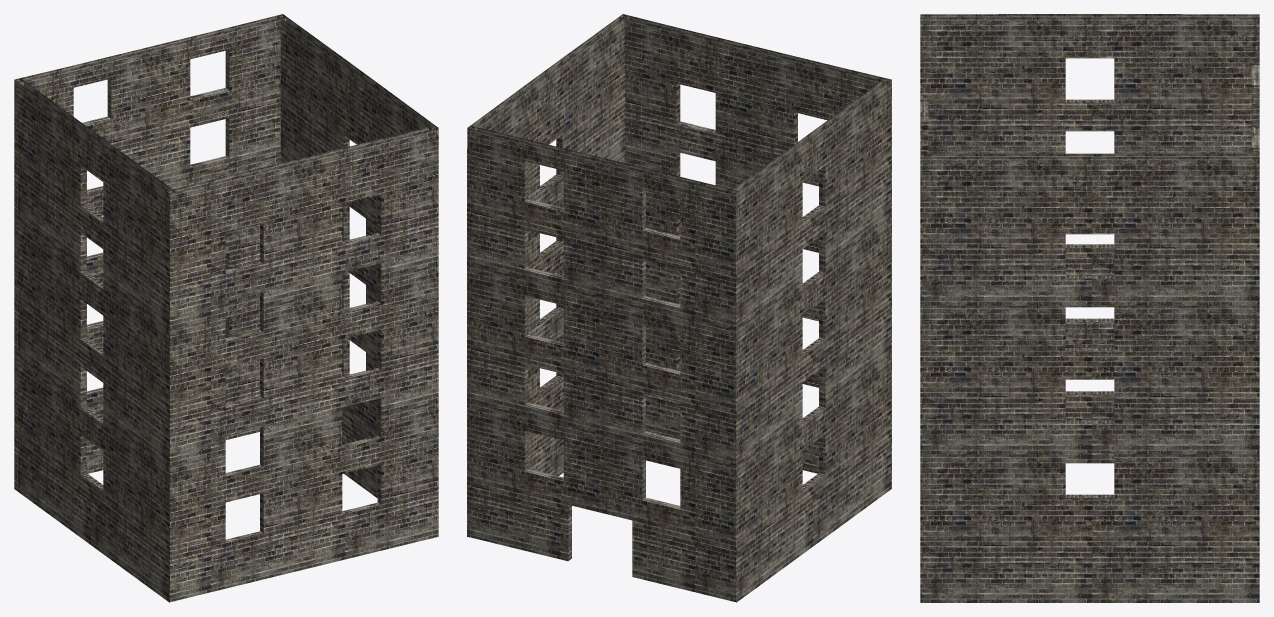
3 views of the same model, side by side, from view 1: azimuth 30°, elevation 25°; view 2: azimuth 150°, elevation 25°; view 3: azimuth 270°, elevation 25° (orthographic). The views are drawn at different scales.
Visible parts, largest first — view 1: ta03; view 2: ta03; view 3: ta03.
Part boxes in pixels (box(x1,y1,x2,y2)): ta03: box(14, 14, 438, 602); ta03: box(467, 14, 891, 602); ta03: box(920, 14, 1259, 602).
Bounding box in the file's own units: 419 × 610 × 420.
